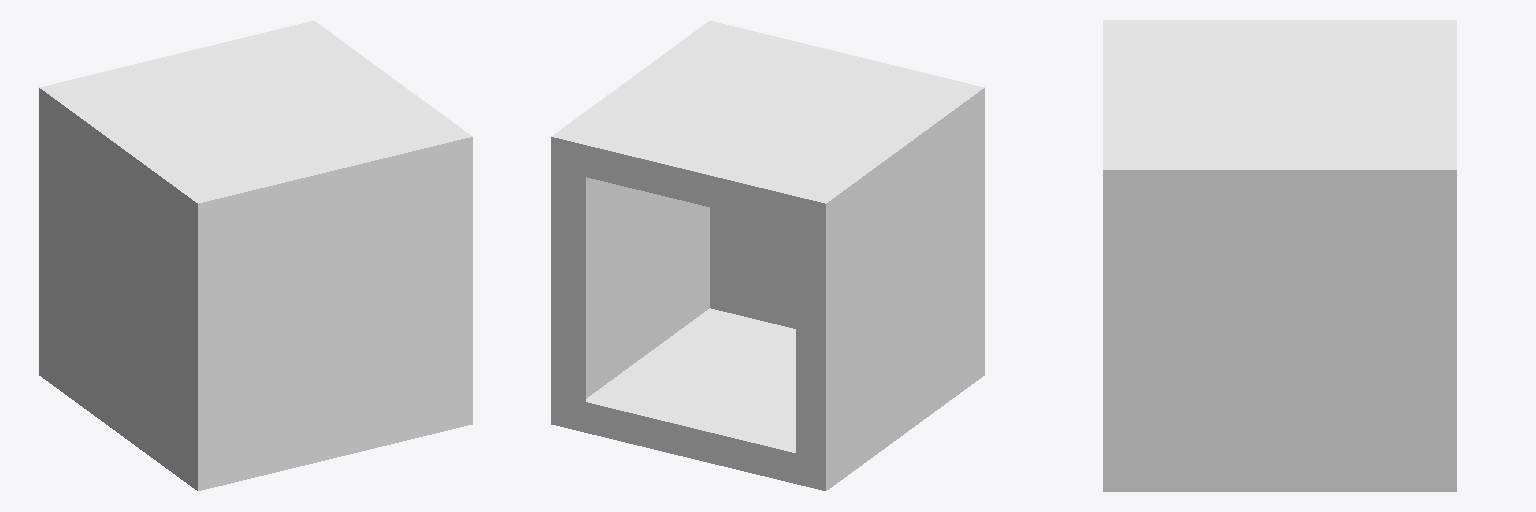
URDF robot description (cube):
<?xml version="1.0" ?>
<robot name="cube">
  <link name="baseLink">
    <contact>
      <lateral_friction value="1.0"/>
      <rolling_friction value="0.0"/>
      <contact_cfm value="0.0"/>
      <contact_erp value="1.0"/>
    </contact>
    <inertial>
      <origin rpy="0 0 0" xyz="0 0 0"/>
       <mass value="1.0"/>
       <inertia ixx="1" ixy="0" ixz="0" iyy="1" iyz="0" izz="1"/>
    </inertial>
    <visual>
      <origin rpy="0 0 0" xyz="0 0 0"/>
      <geometry>
				<mesh filename="wall.obj" scale="1 1 1"/>
      </geometry>
       <material name="white">
        <color rgba="1 1 1 1"/>
      </material>
    </visual>
    <collision>
      <origin rpy="0 0 0" xyz="0 0 0"/>
      <geometry>
	 	<box size="1 1 1"/>
      </geometry>
    </collision>
  </link>
</robot>

--- What the picture shows (computed from the rendered views, not written in the file) ---
Views: 3 orthographic renders of the robot side by side, from view 1: azimuth 30°, elevation 25°; view 2: azimuth 150°, elevation 25°; view 3: azimuth 270°, elevation 25°.
Robot: cube — 1 links, 0 joints (none); root link baseLink; default pose: all joints at 0.
Links seen in each view (by area): view 1: baseLink; view 2: baseLink; view 3: baseLink.
Boxes of the visible links, x1,y1,x2,y2 form: baseLink: (39, 21, 472, 490); baseLink: (551, 21, 984, 490); baseLink: (1103, 20, 1456, 491).
Size in the robot's own frame: 47.63 by 47.63 by 47.63 metres.
Meshes: 1 distinct files referenced, 1 mesh visuals loaded (1 OBJ).